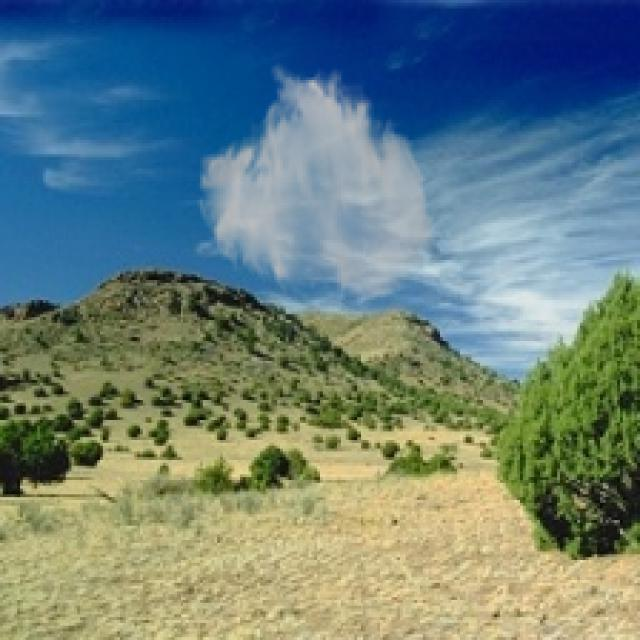smoke: (194, 60, 437, 306)
